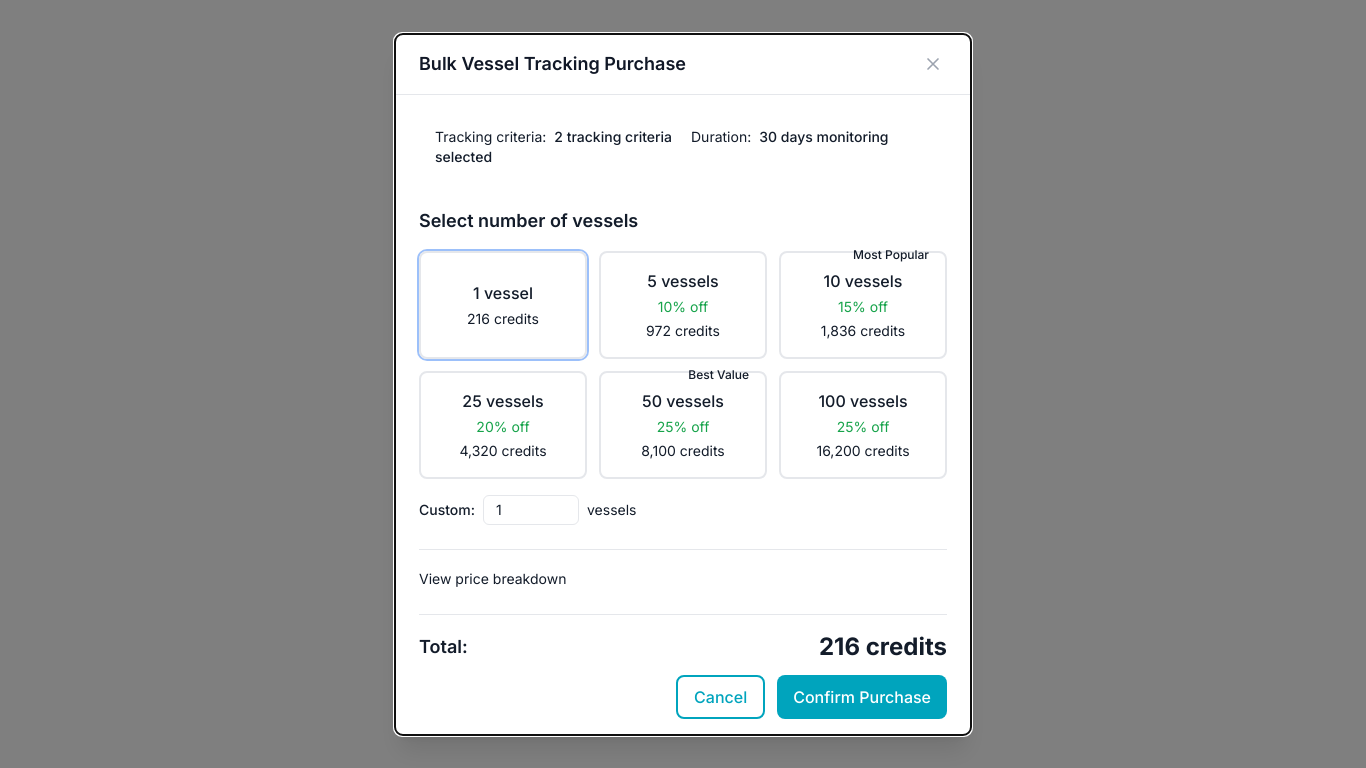
Test case: BulkPurchaseModal › updates price when vessel count changes
Expected: the text "216 credits" in the row of "Total:" is shown, [819,630,947,662]
Step 1. Click the button "Most Popular 10 vessels 15% off 1,836 credits" → (863, 304), box [779,250,947,358]
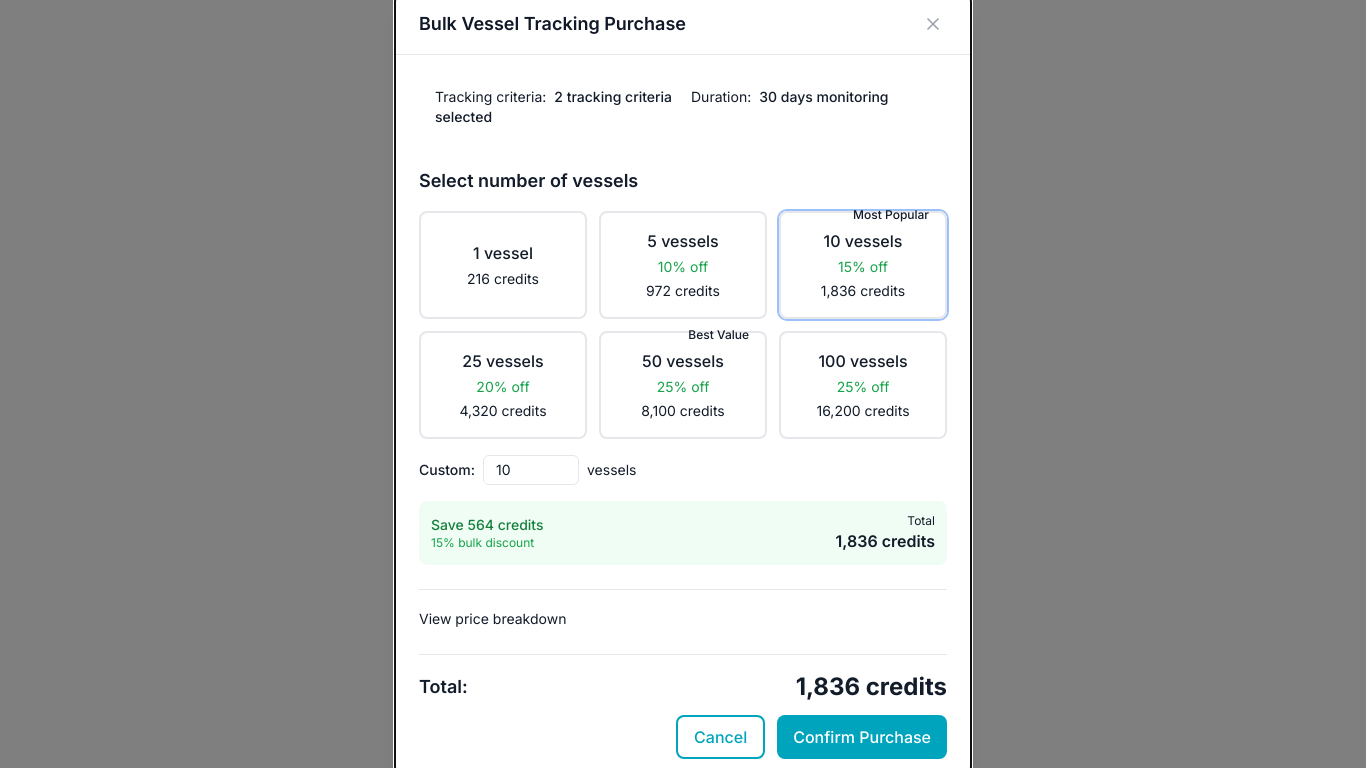
Result: the text "1,836 credits" in the row of "Total:" is shown at [796,670,947,702]
